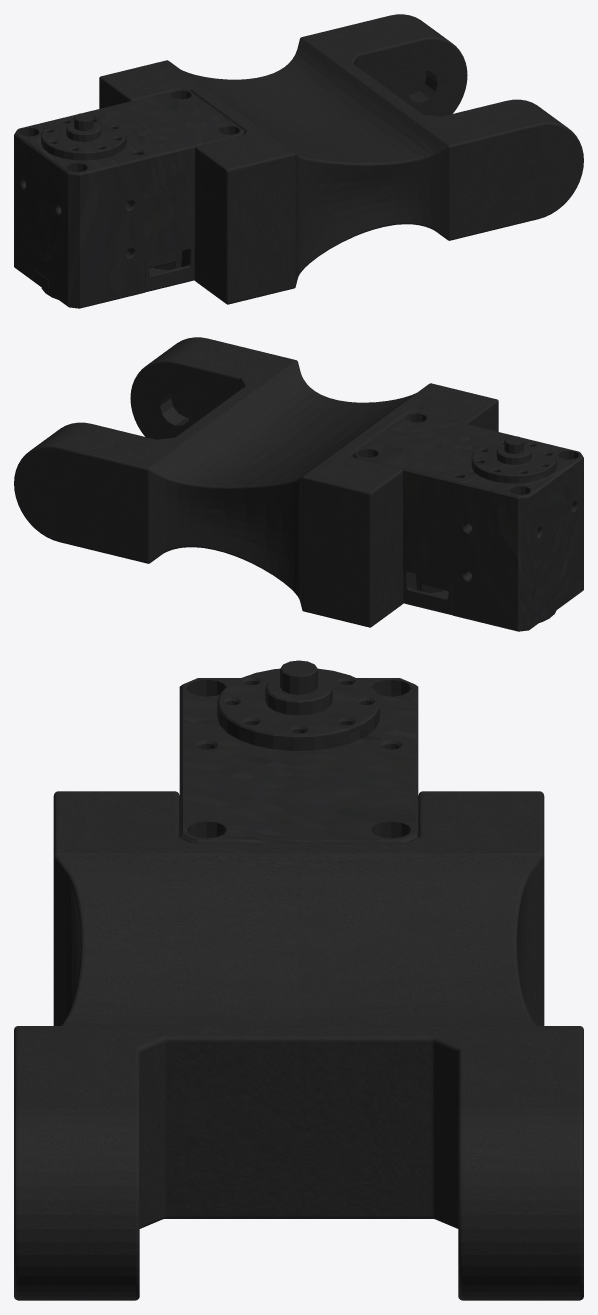
File: arm_proximal_link.dae
3 renders of one model, top to bottom at view 1: azimuth 30°, elevation 25°; view 2: azimuth 150°, elevation 25°; view 3: azimuth 270°, elevation 25°, orthographic. The views are drawn at different scales.
Parts seen in each view (by area): view 1: node; view 2: node; view 3: node.
Boxes of the visible parts, x1=… form: node: x1=14, y1=14, x2=583, y2=308; node: x1=14, y1=337, x2=583, y2=631; node: x1=14, y1=660, x2=583, y2=1300.
Bounding box in the file's own units: 0.1232 × 0.068 × 0.0424.
1 material, 1 textured.
